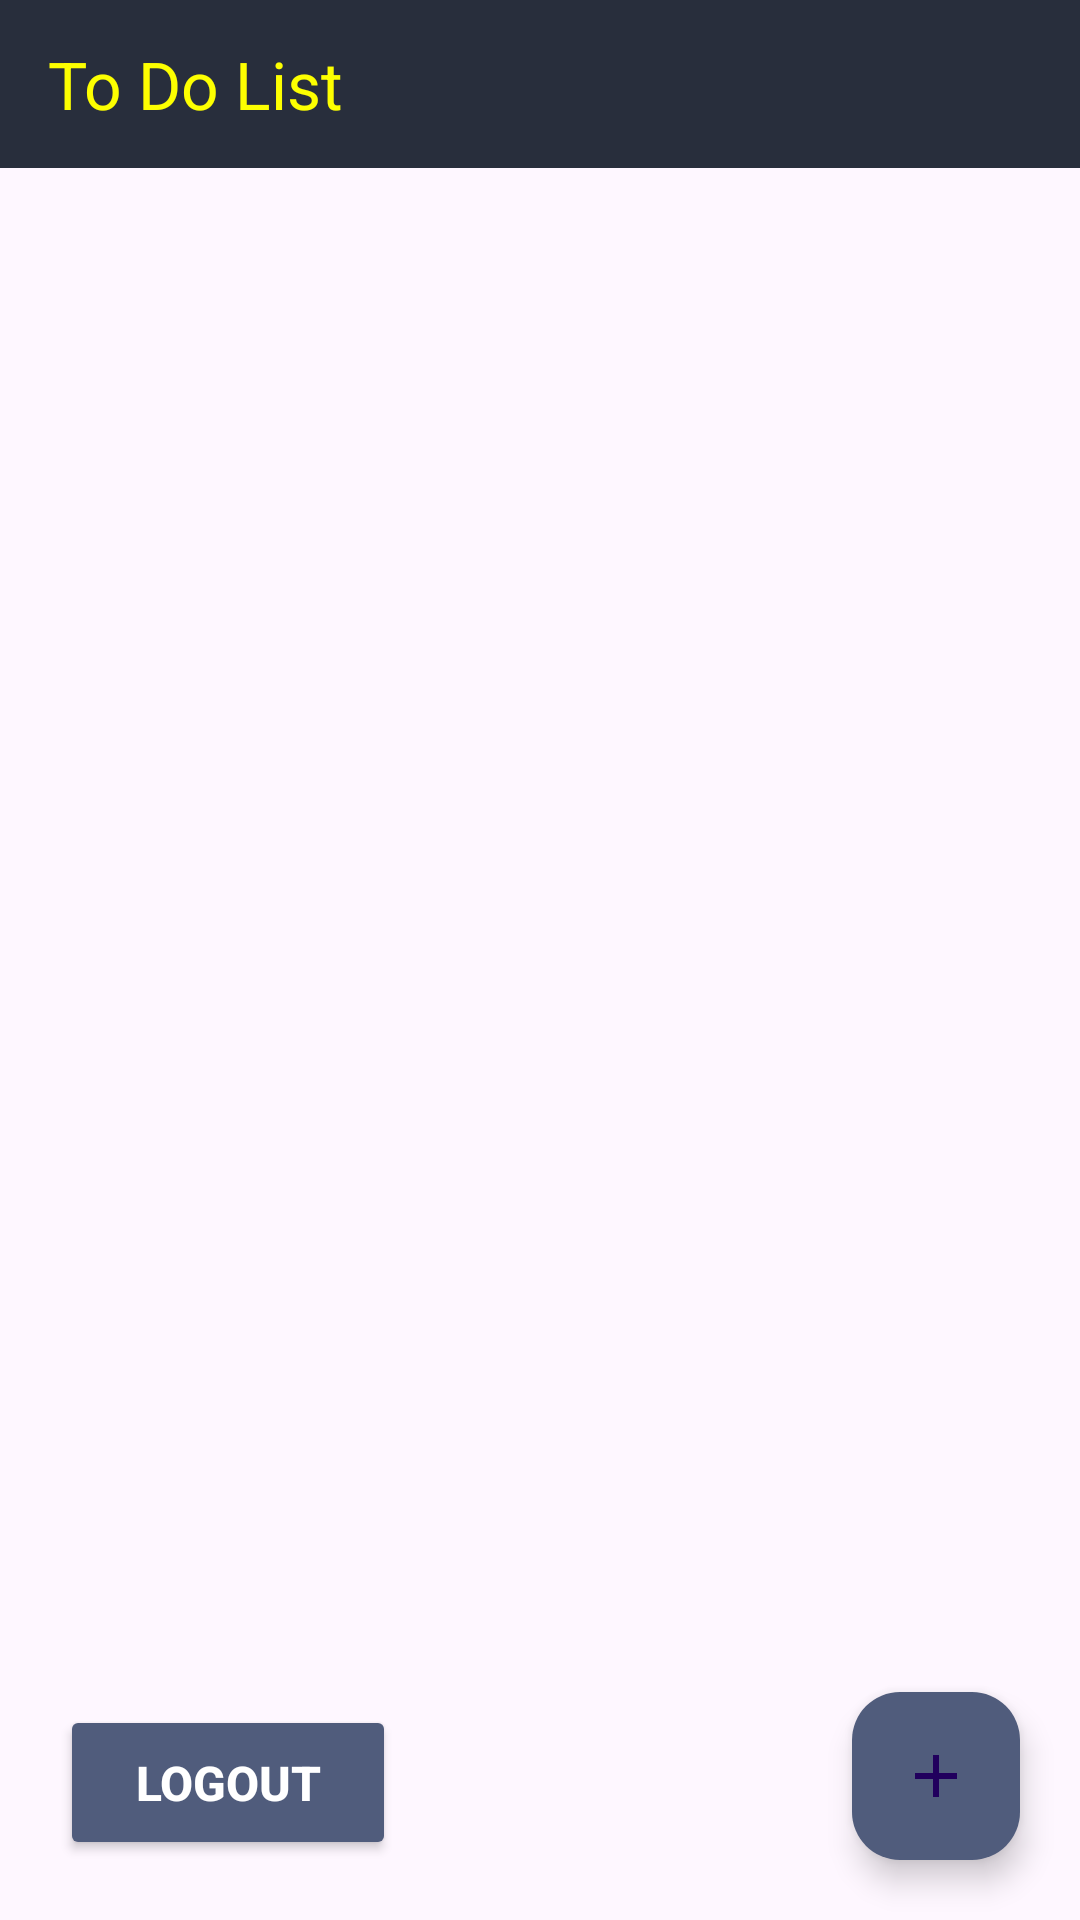

Where icons sit on this 1080 × 1920 app screen, as (x1, y1, x2, y2):
activity add: (852, 1692, 1020, 1860)
